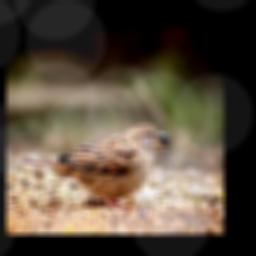Sparrow: (21, 123, 169, 208)
